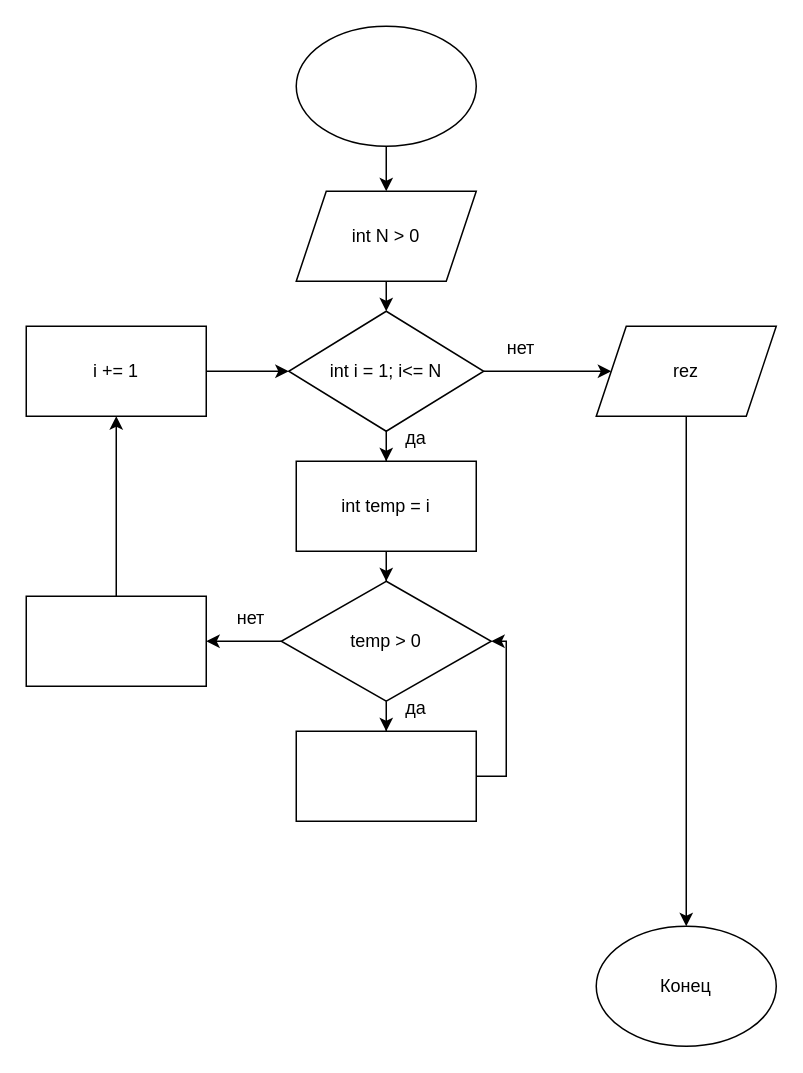
This 803x1073 diagram has some shape labels left out. The shapes that lost their labels are listed below. From the top down, each one's centre as x and y in pixels, then its label:
At point (385, 85): "Начало".
At point (115, 640): "rez *= 1 + i / 10 digits".
At point (385, 775): "temp /= 10 digits += 1".
